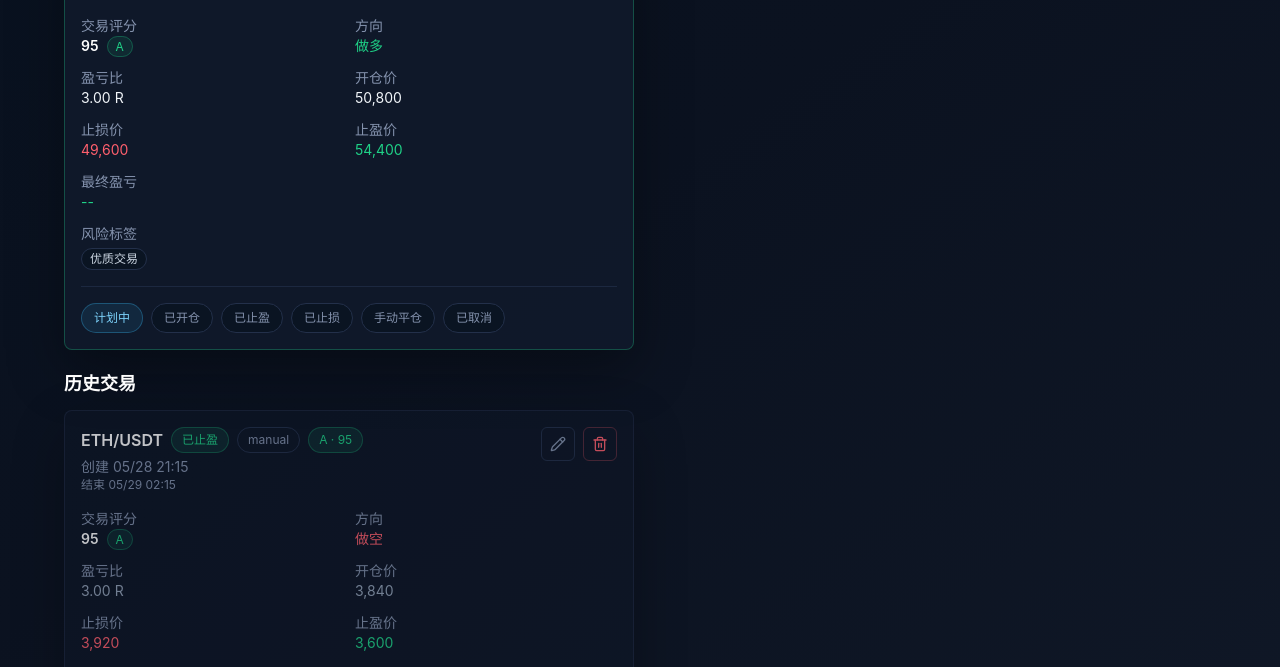
Test: TradePlans › moves a plan to open status and records openTime
(page scrolled)
What coordinates should you click on to do the following:
click the button "已开仓"
I would click on:
 (182, 318)
Its box is [151,303,213,333].
(page scrolled)
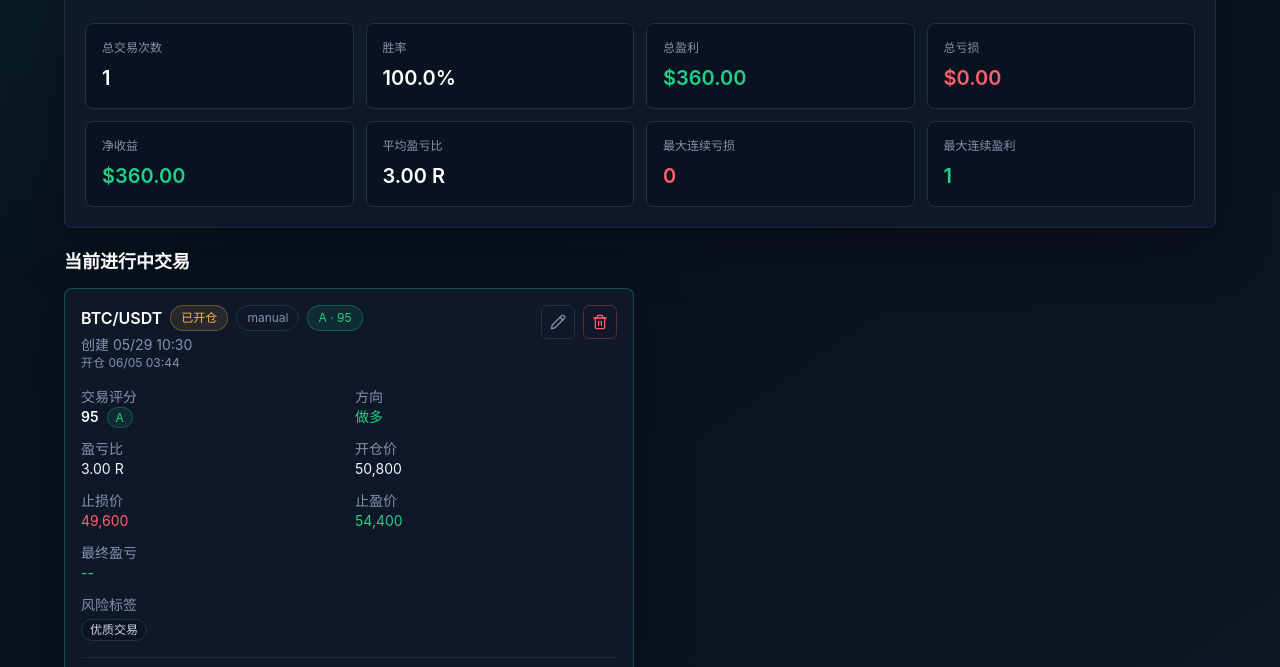
Now the text "已开仓" is shown, box [170,305,228,331]
